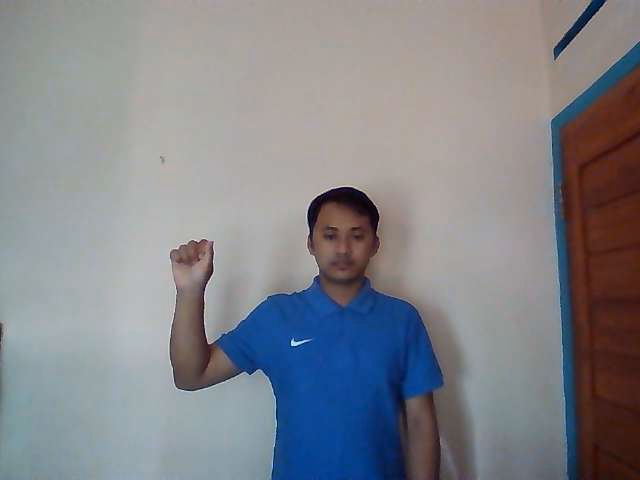A: (169, 238, 216, 288)
